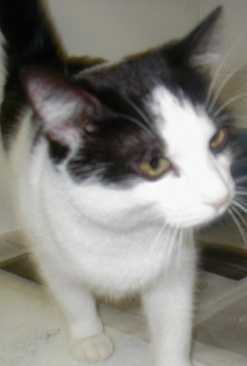Cat: (7, 7, 237, 365)
